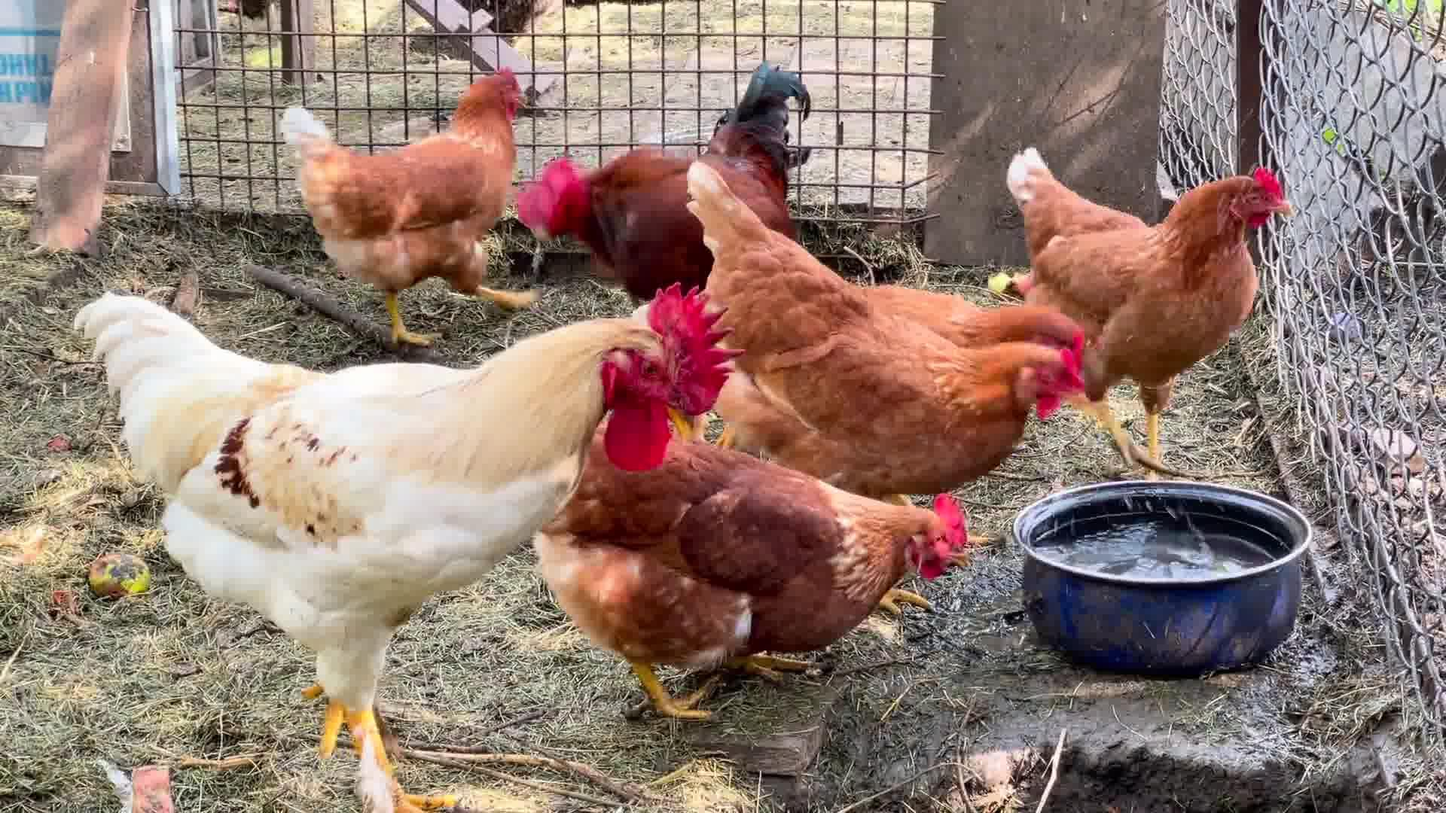Normal: (70, 277, 736, 813), (669, 153, 1094, 514), (618, 428, 980, 733), (1010, 147, 1293, 474), (255, 59, 558, 362), (577, 62, 825, 298), (893, 258, 1106, 357)
